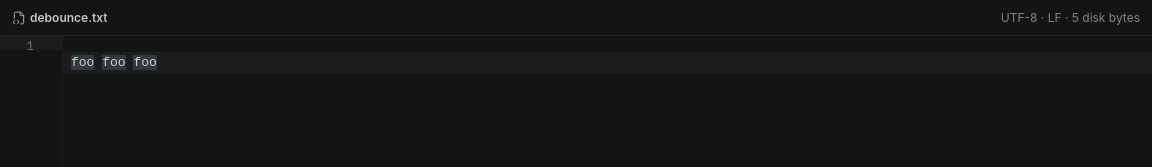
it: FileSurface Find and Replace › selects the next match after a longer replacement
Press f in the field labelled "foo foo foo", box [63,52,1151,73]
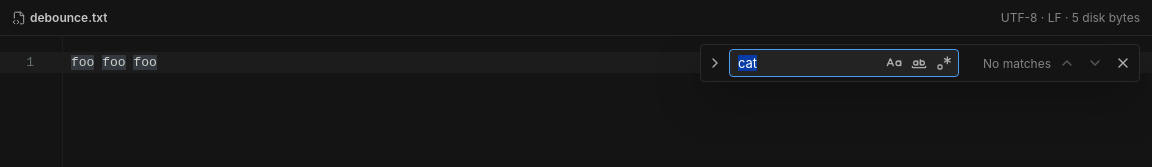
Replace the text in the field named "Find text" with "foo": (806, 63) [730,55,881,71]
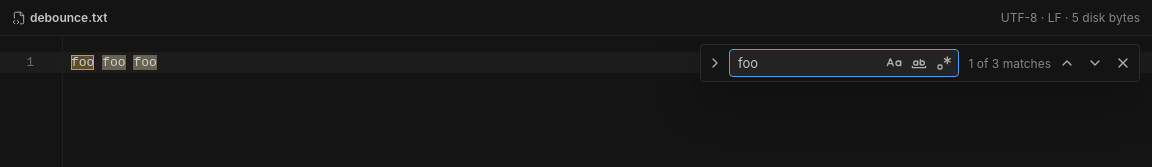
Click the button named "Toggle Replace": (715, 63) [705,49,725,77]
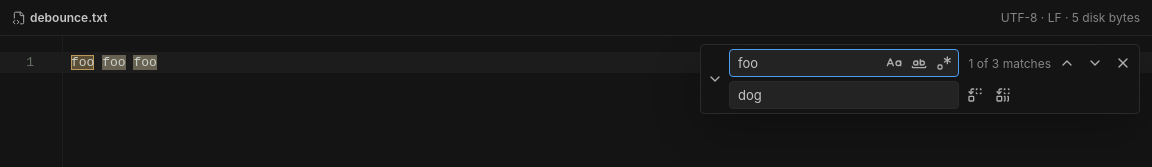
Replace the text in the field named "Replace text" with "barbaz": (843, 95) [730,87,956,103]
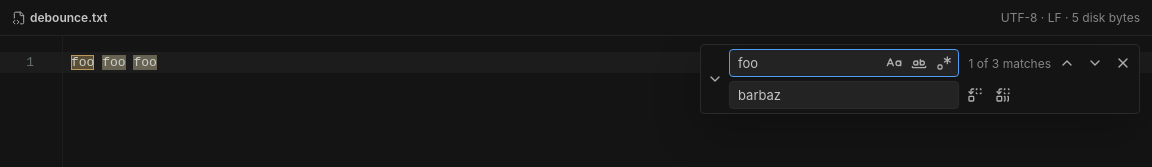
Press Enter in the field named "Replace text", box [730,87,956,103]
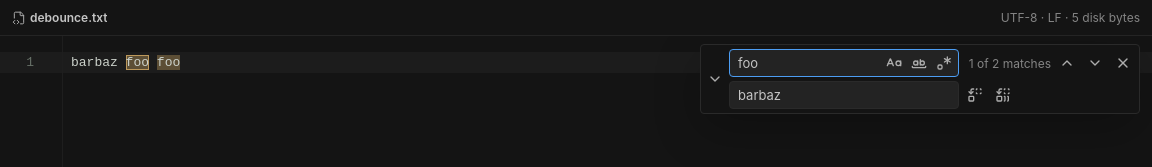
Now the text box labelled "barbaz foo foo" is shown, box [63,52,1151,73]
Press Enter in the field named "Replace text", box [730,87,956,103]
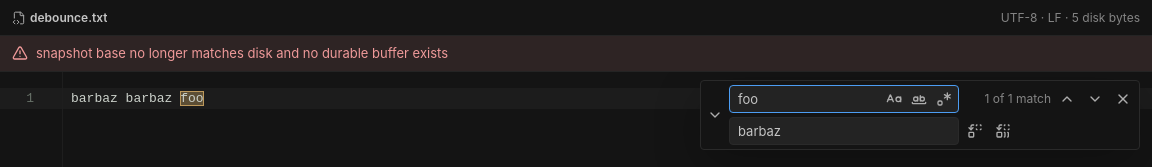
Now the text box labelled "barbaz barbaz foo" is shown, box [63,88,1151,109]
